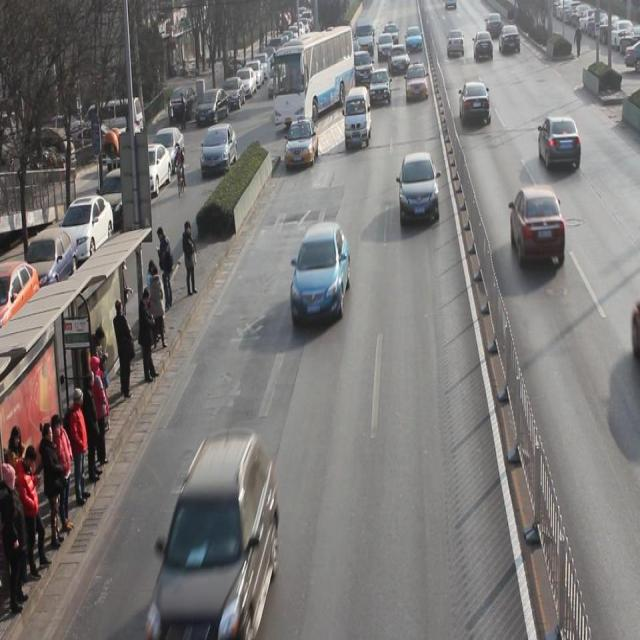car: (151, 432, 280, 633), (291, 220, 351, 326), (511, 184, 566, 266), (399, 151, 441, 224), (539, 114, 582, 168), (284, 117, 320, 169), (459, 79, 492, 126), (405, 60, 429, 102), (352, 48, 375, 88), (369, 67, 392, 106), (388, 44, 411, 76), (499, 23, 521, 55), (473, 29, 494, 61), (446, 26, 465, 58)
truck: (345, 86, 372, 150)
van: (274, 28, 357, 130)
